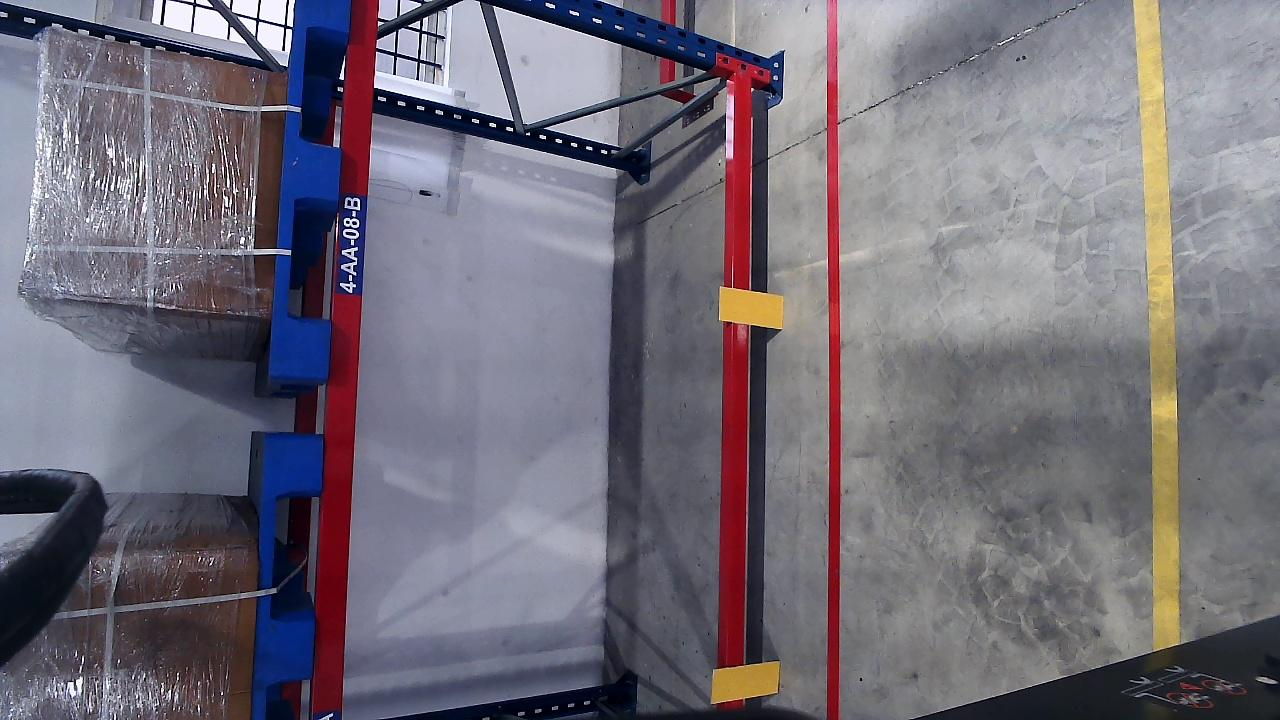h_rack: (311, 62, 377, 686), (725, 75, 759, 637)
orange_strip: (711, 660, 780, 702), (719, 285, 784, 328)
red_line: (822, 4, 844, 720)
small_pallet: (268, 0, 348, 379), (251, 439, 322, 715)
yellow_line: (1135, 0, 1181, 598)
